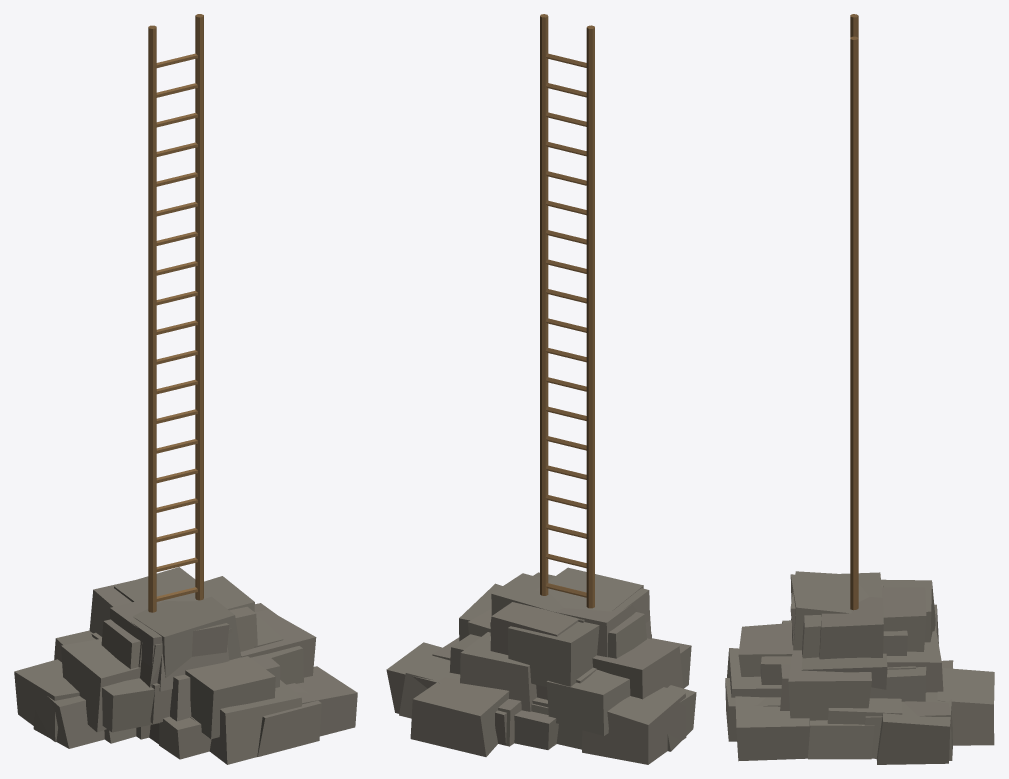
The model's file is siege.glb.
The picture shows the model from 3 angles, left to right: view 1: azimuth 30°, elevation 25°; view 2: azimuth 150°, elevation 25°; view 3: azimuth 270°, elevation 25°; orthographic projection. The views are drawn at different scales.
Parts seen in each view (by area): view 1: stone-pile-b, ladder-7, ladder-5; view 2: stone-pile-b, ladder-7, ladder-5, stone-pile-a; view 3: stone-pile-b, ladder-7, ladder-5.
Boxes of the visible parts, bbox=[...] form: stone-pile-b: bbox=[14, 567, 357, 764]; ladder-7: bbox=[148, 14, 203, 612]; ladder-5: bbox=[148, 213, 203, 612]; stone-pile-b: bbox=[386, 567, 696, 764]; ladder-7: bbox=[540, 14, 594, 607]; ladder-5: bbox=[540, 212, 594, 608]; stone-pile-a: bbox=[514, 710, 558, 749]; stone-pile-b: bbox=[725, 571, 994, 764]; ladder-7: bbox=[850, 14, 858, 609]; ladder-5: bbox=[850, 232, 858, 610].
Size of the model in its own units: 2.72 by 7 by 2.53.
